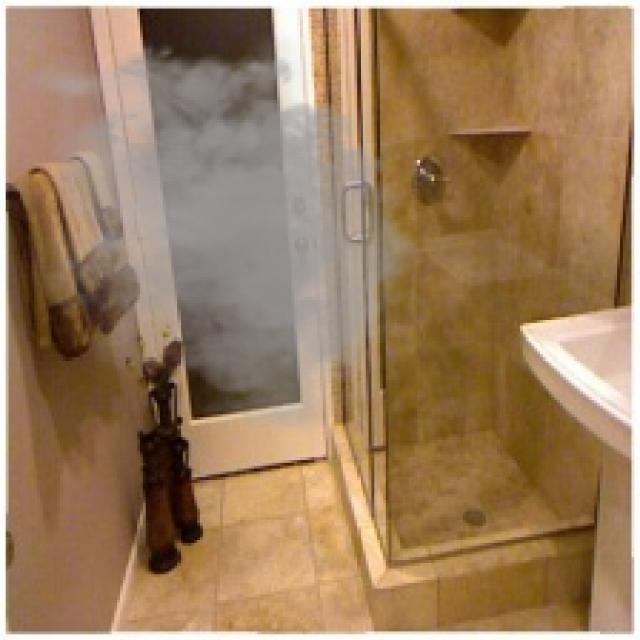Smoke: (14, 26, 434, 446)
